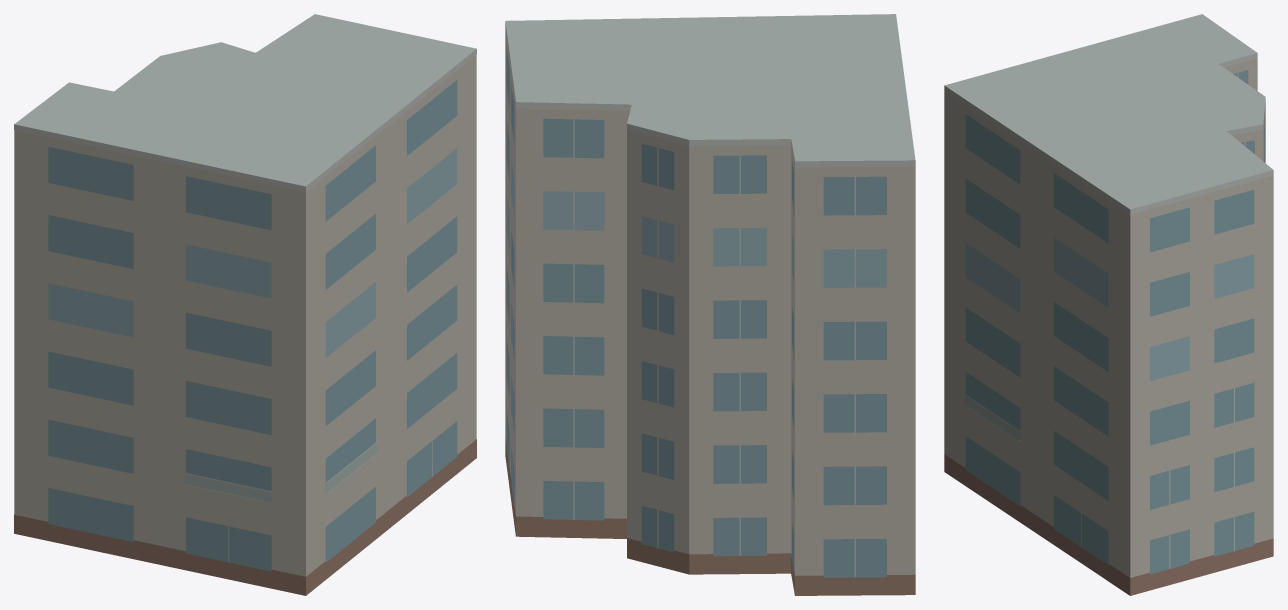
Rendered from survey-upis-32973856.glb.
3 renders of one model, left to right at view 1: azimuth 30°, elevation 25°; view 2: azimuth 150°, elevation 25°; view 3: azimuth 270°, elevation 25°, orthographic. The views are drawn at different scales.
Parts seen in each view (by area): view 1: survey-upis-32973856.tmp; view 2: survey-upis-32973856.tmp; view 3: survey-upis-32973856.tmp.
Boxes of the visible parts, <box> form: survey-upis-32973856.tmp: <box>14,14,476,595</box>; survey-upis-32973856.tmp: <box>505,14,915,595</box>; survey-upis-32973856.tmp: <box>944,14,1273,595</box>.
Bounding box in the file's own units: 18.84 × 17.35 × 13.41.
